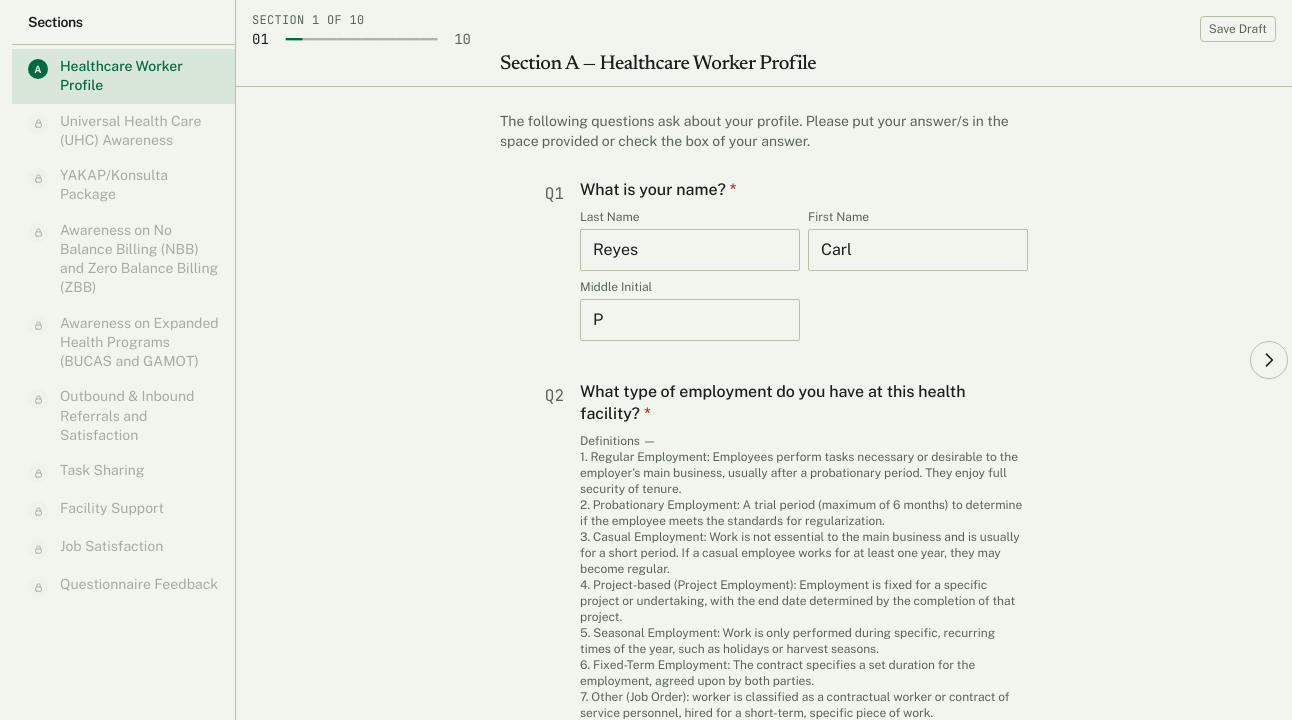
Test case: <MultiSectionForm> › #587: blocks advance out of Section A on an implausible tenure (PROF-01) with an inline error
The image size is (1292, 720).
Click the button named "next": (1269, 360) x1=1250 y1=341 x2=1288 y2=379
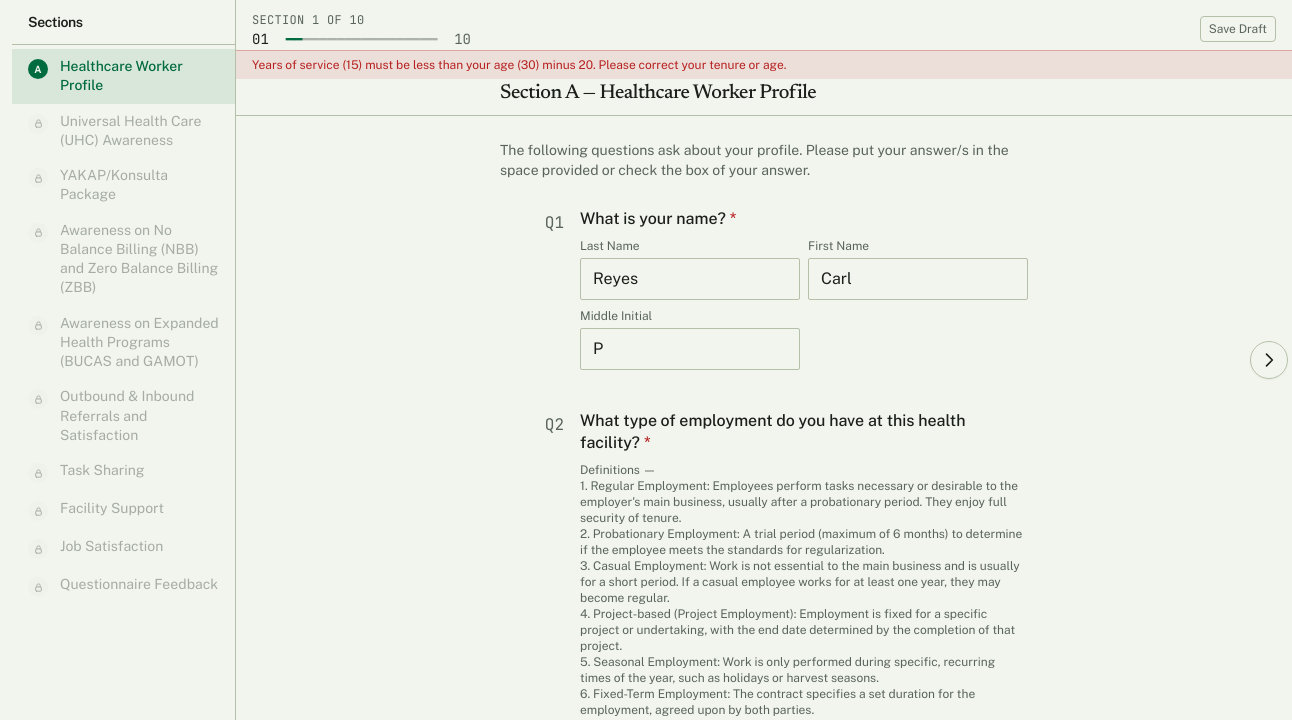
expect the heading "Section A — Healthcare Worker Profile" is shown: met, box x1=500 y1=83 x2=816 y2=103
expect the text "must be less than your age" is shown: met, box x1=252 y1=58 x2=786 y2=72
